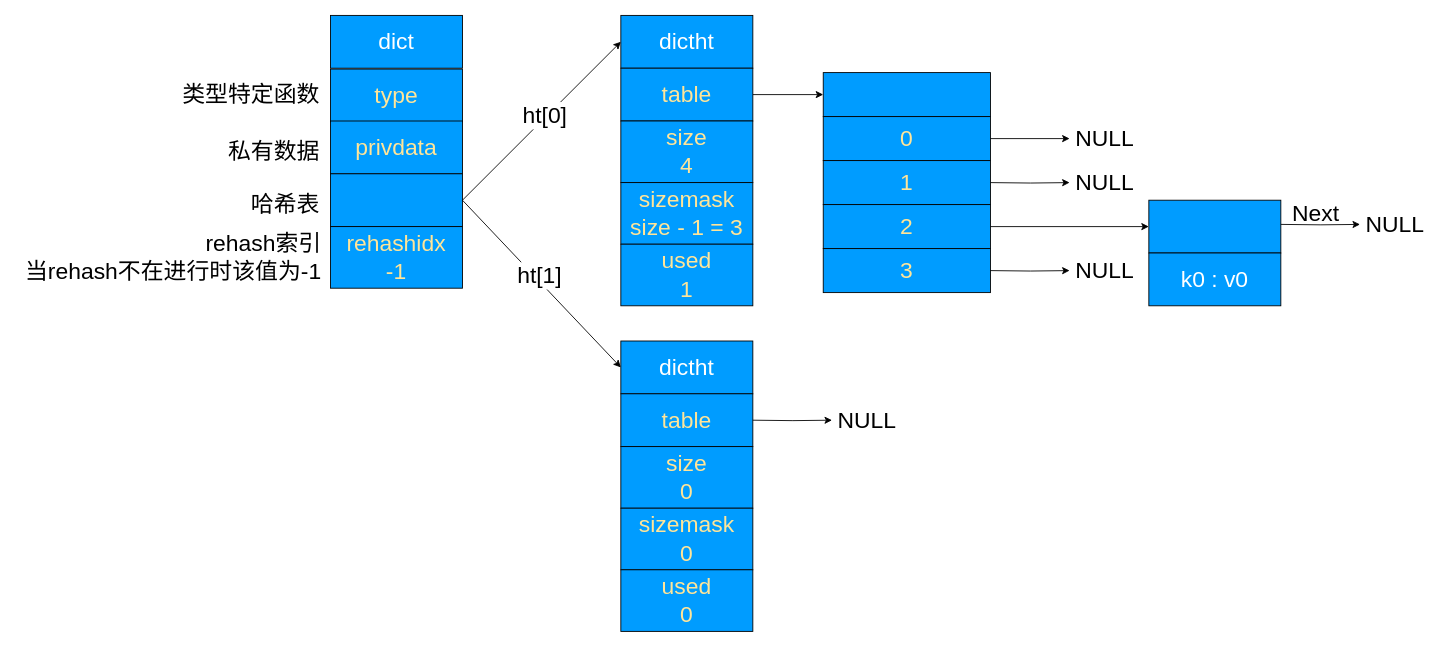
The diagram is 1445 pixels wide and 647 high, and some of its shapes have lost their labels. Here are the shapes that lost their labels. From the top down, the centre of each, then its label:
the point at 906,94: dictEntry* [4]
the point at 396,200: ht
the point at 1214,226: dictEntry
